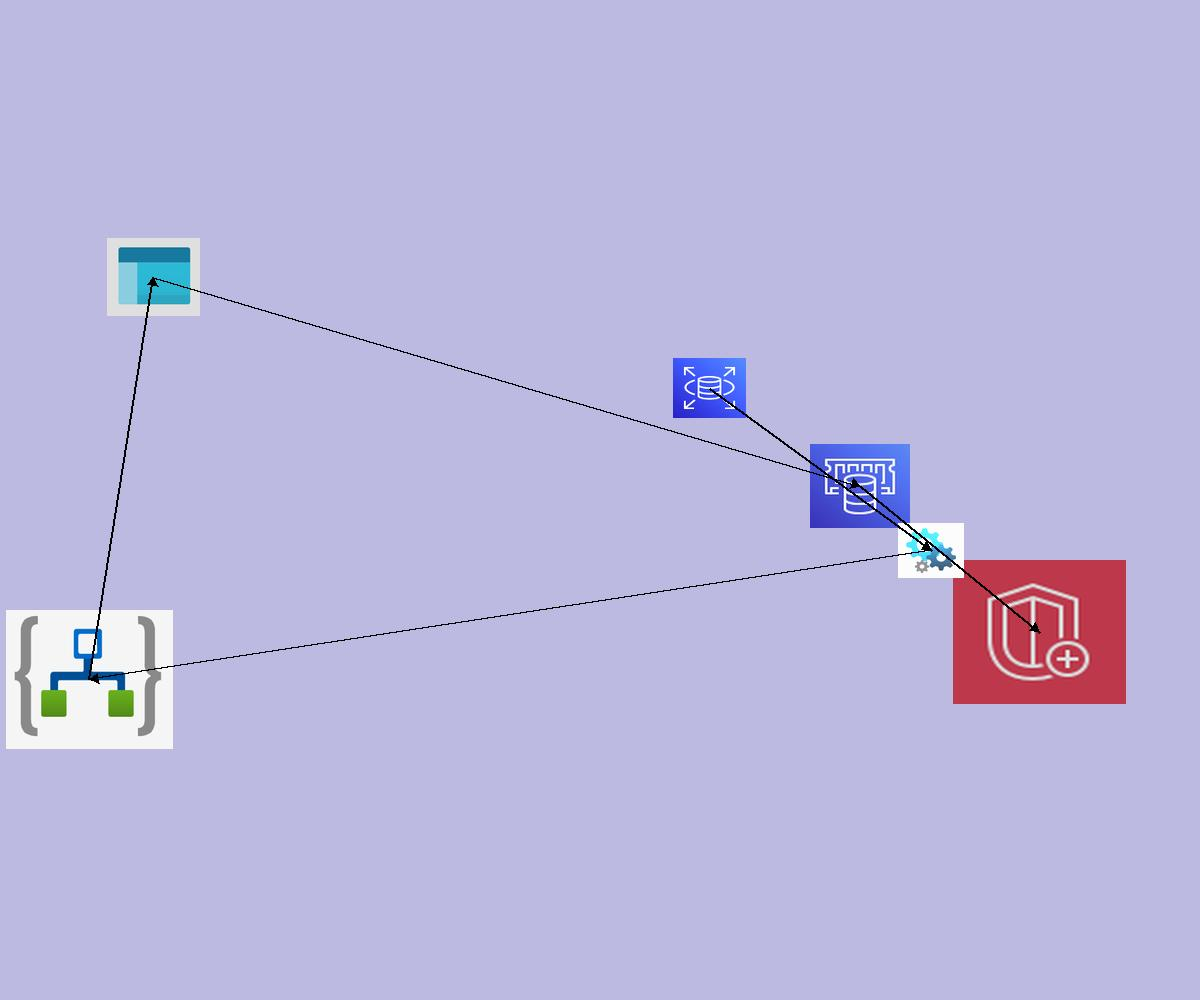AWS-ElastiCache: (810, 444, 910, 528)
AWS-RDS: (673, 358, 746, 418)
AWS-Shield: (953, 560, 1126, 704)
Azure_api: (898, 523, 964, 578)
Azure_integration-204-Logic-Apps: (6, 610, 173, 749)
Azure_management-portal: (107, 238, 200, 316)
